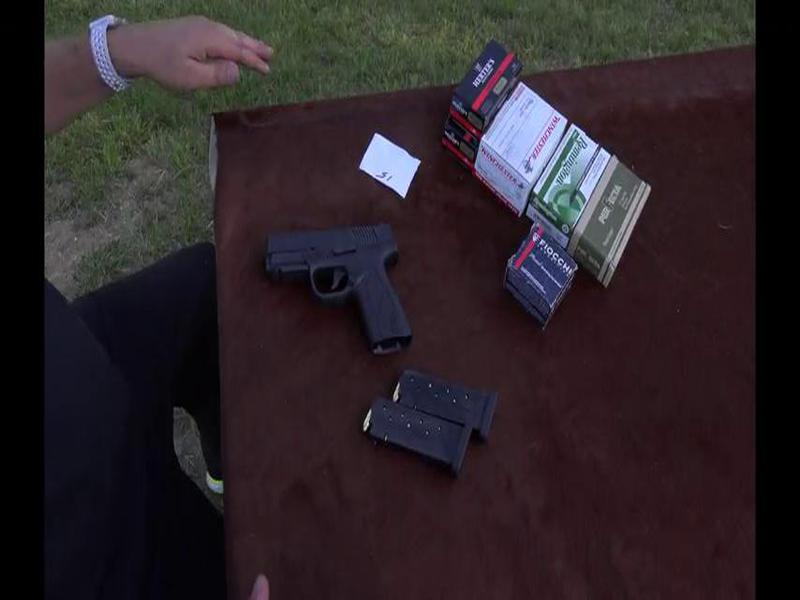Pistola: (257, 218, 417, 357)
